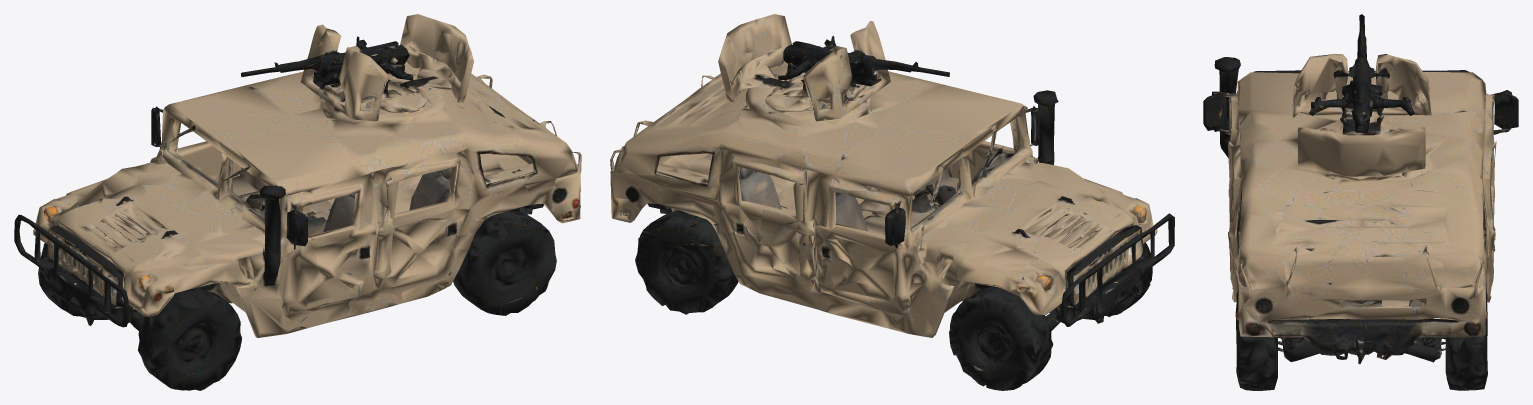
File: mil_humvee.glb
The picture shows the model from 3 angles, left to right: view 1: azimuth 30°, elevation 25°; view 2: azimuth 150°, elevation 25°; view 3: azimuth 270°, elevation 25°; orthographic projection. The views are drawn at different scales.
Parts seen in each view (by area): view 1: mesh_node; view 2: mesh_node; view 3: mesh_node.
Part boxes in pixels (x1=…): mesh_node: x1=14, y1=14, x2=581, y2=390; mesh_node: x1=610, y1=14, x2=1174, y2=390; mesh_node: x1=1203, y1=14, x2=1518, y2=390.
Bounding box in the file's own units: 1.9 × 0.9906 × 1.04.
Materials: 1 (1 with a texture image).
